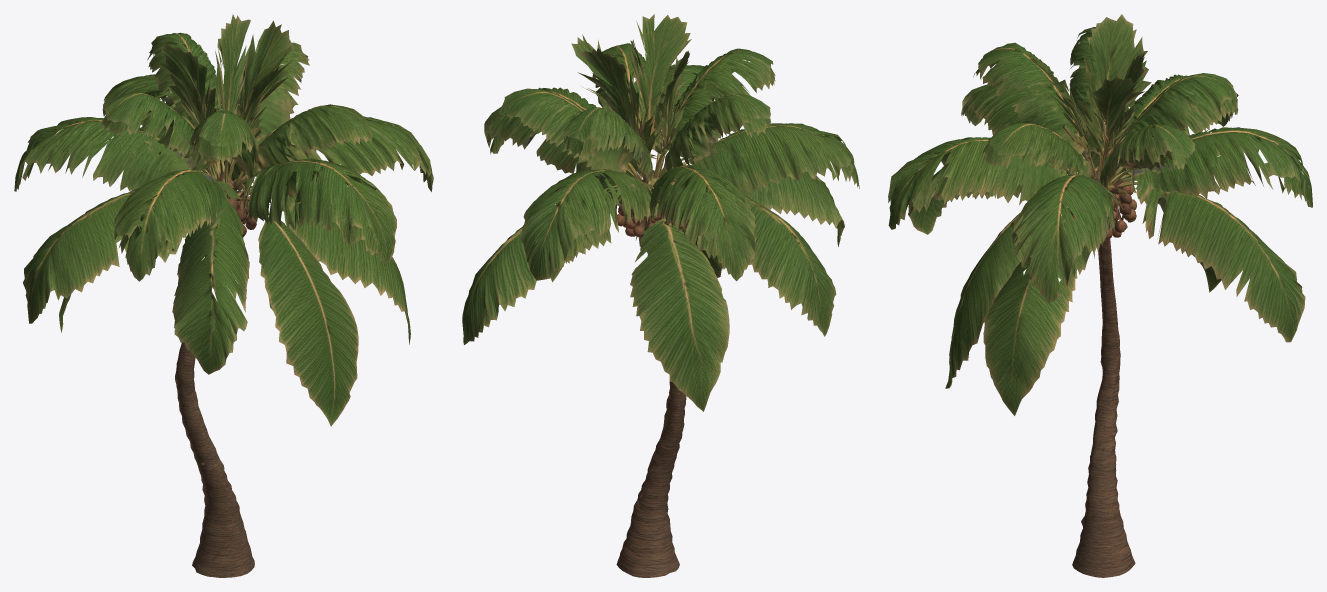
The model's file is palm_a.glb.
3 renders of one model, left to right at view 1: azimuth 30°, elevation 25°; view 2: azimuth 150°, elevation 25°; view 3: azimuth 270°, elevation 25°, orthographic.
Size of the model in its own units: 0.6924 by 0.9502 by 0.6938.
Materials: 1 (1 with a texture image).
